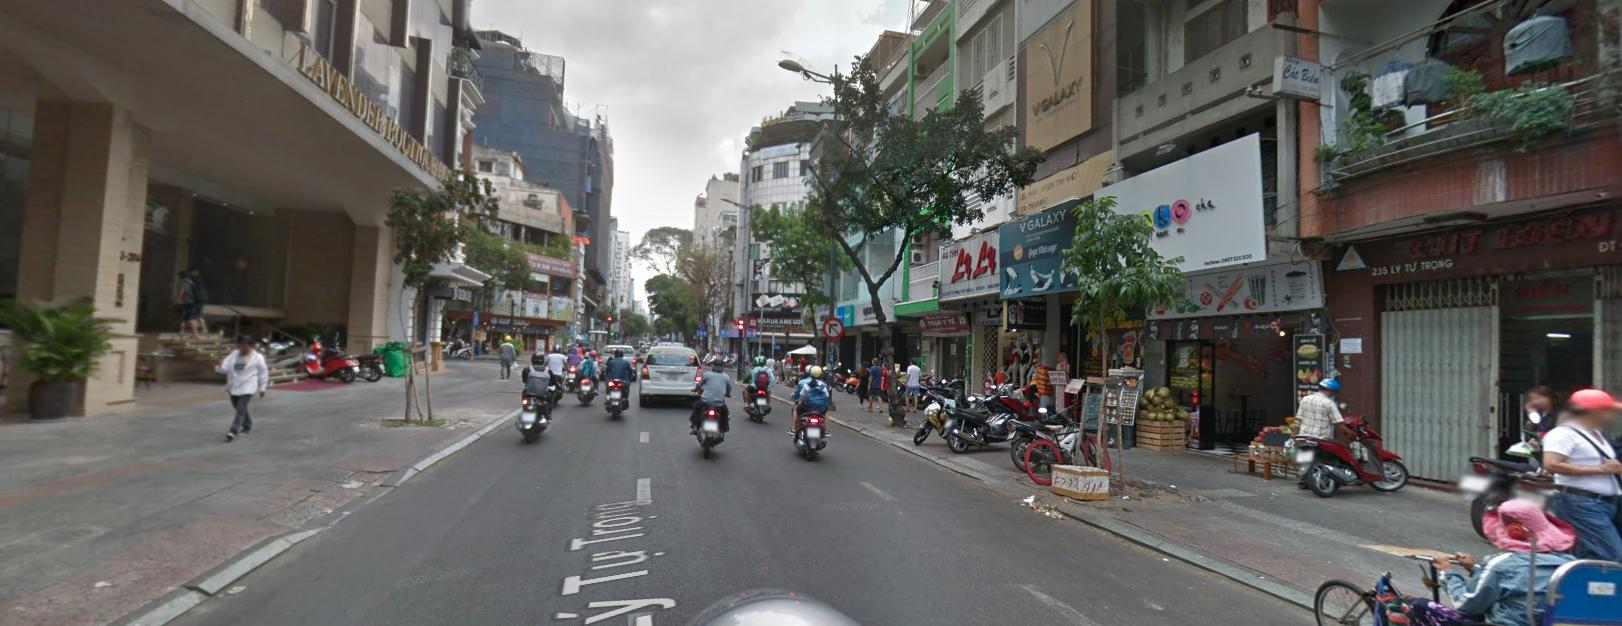Cam dung va do: (697, 321, 705, 327)
Cam re: (822, 314, 844, 336)
